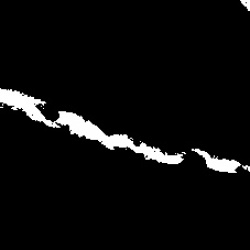crack: (4, 88, 243, 175)
